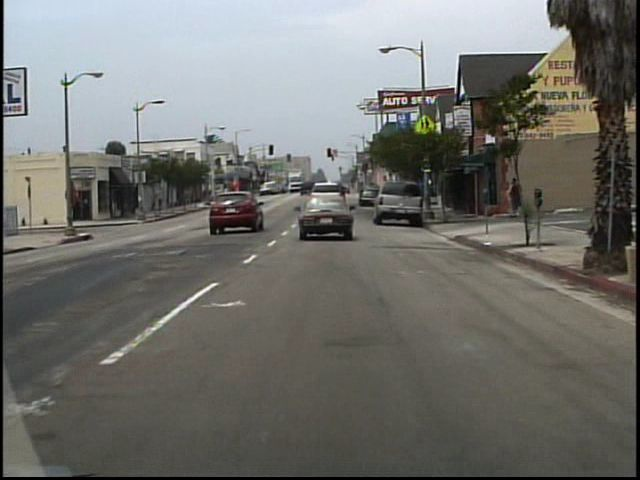person: (512, 177, 524, 217), (504, 182, 517, 218)
